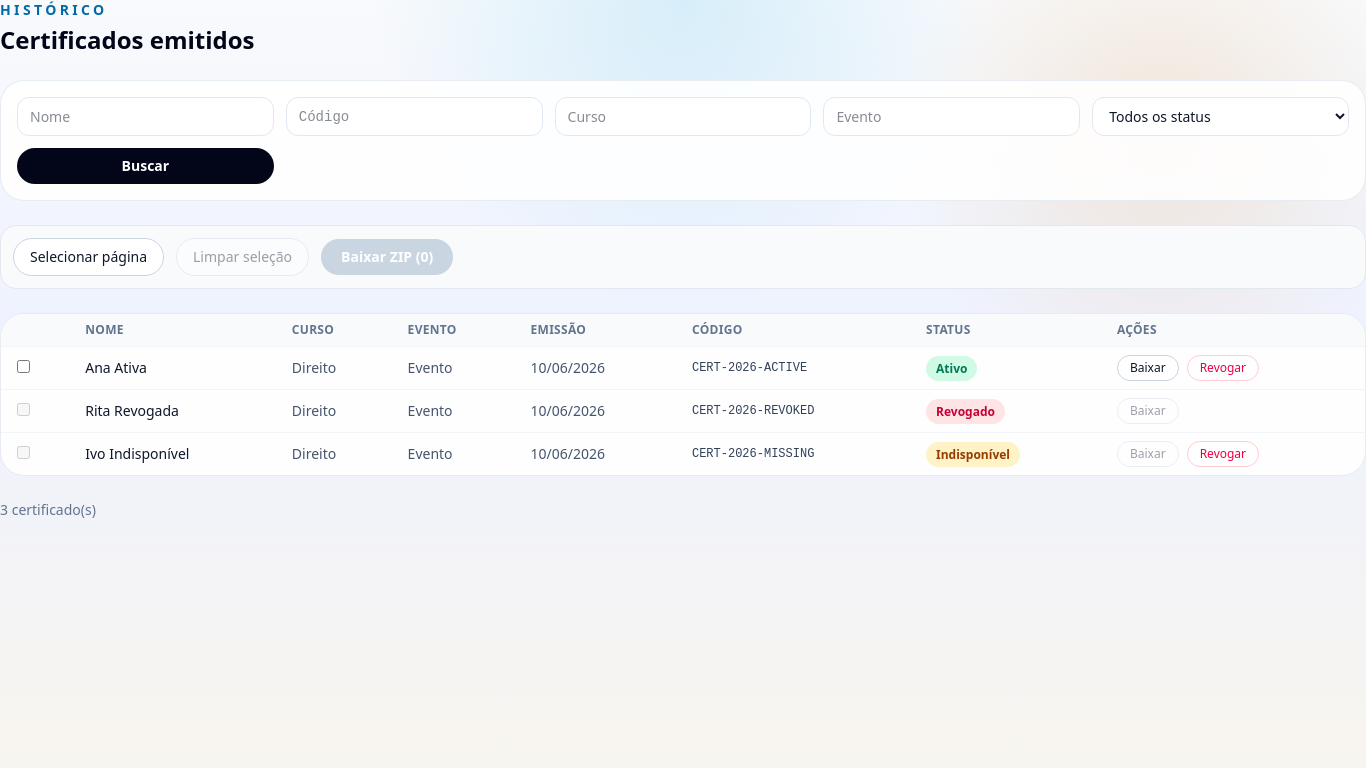
Test: exige motivo e preserva erro específico ao revogar
Expected: the text "Ana Ativa" is shown, [69, 346, 276, 390]
Step 1. Click the button "Revogar" in the row of "Ana Ativa" → click(1223, 368), box [1187, 355, 1259, 381]
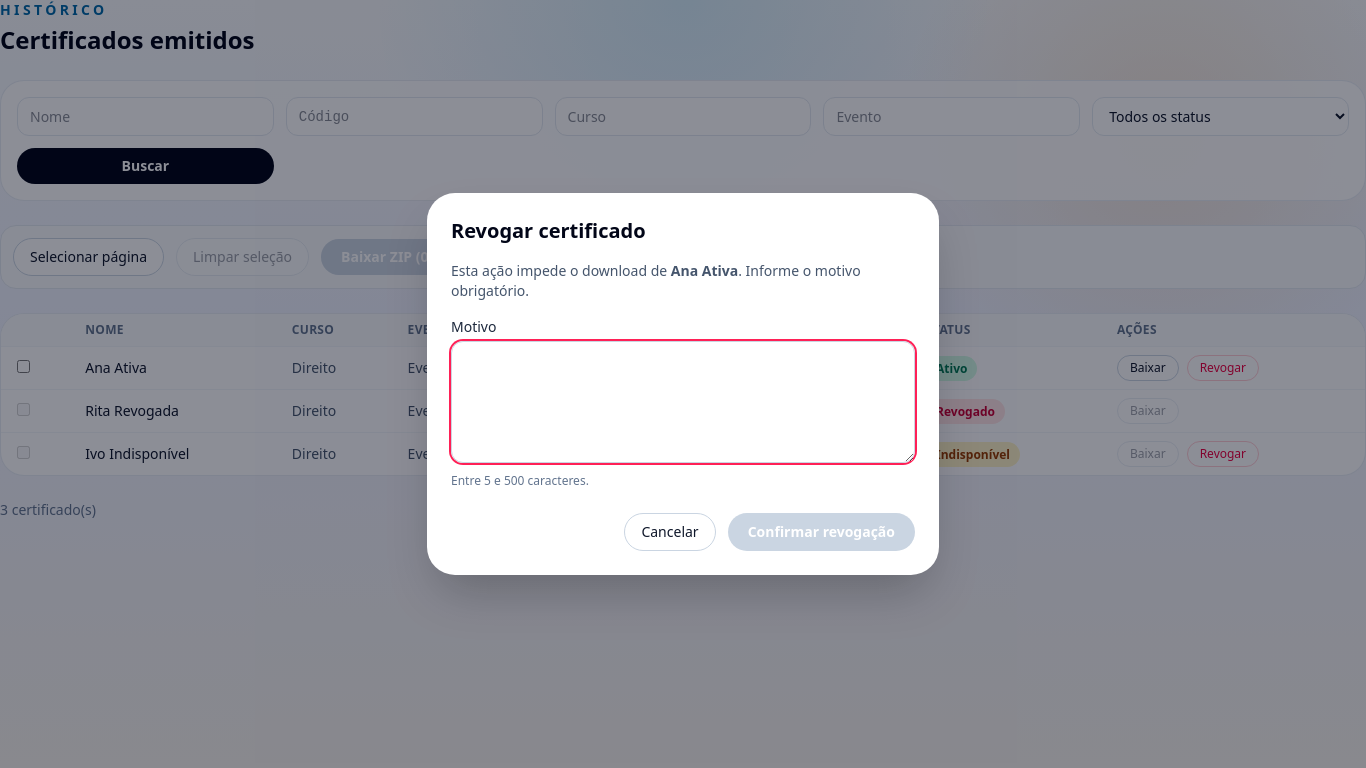
Expected: the button "Confirmar revogação" is disabled, [728, 513, 915, 551]
Step 2. Type "erro de emissão" into the text box labelled "Motivo" → (683, 402), box [451, 341, 915, 463]
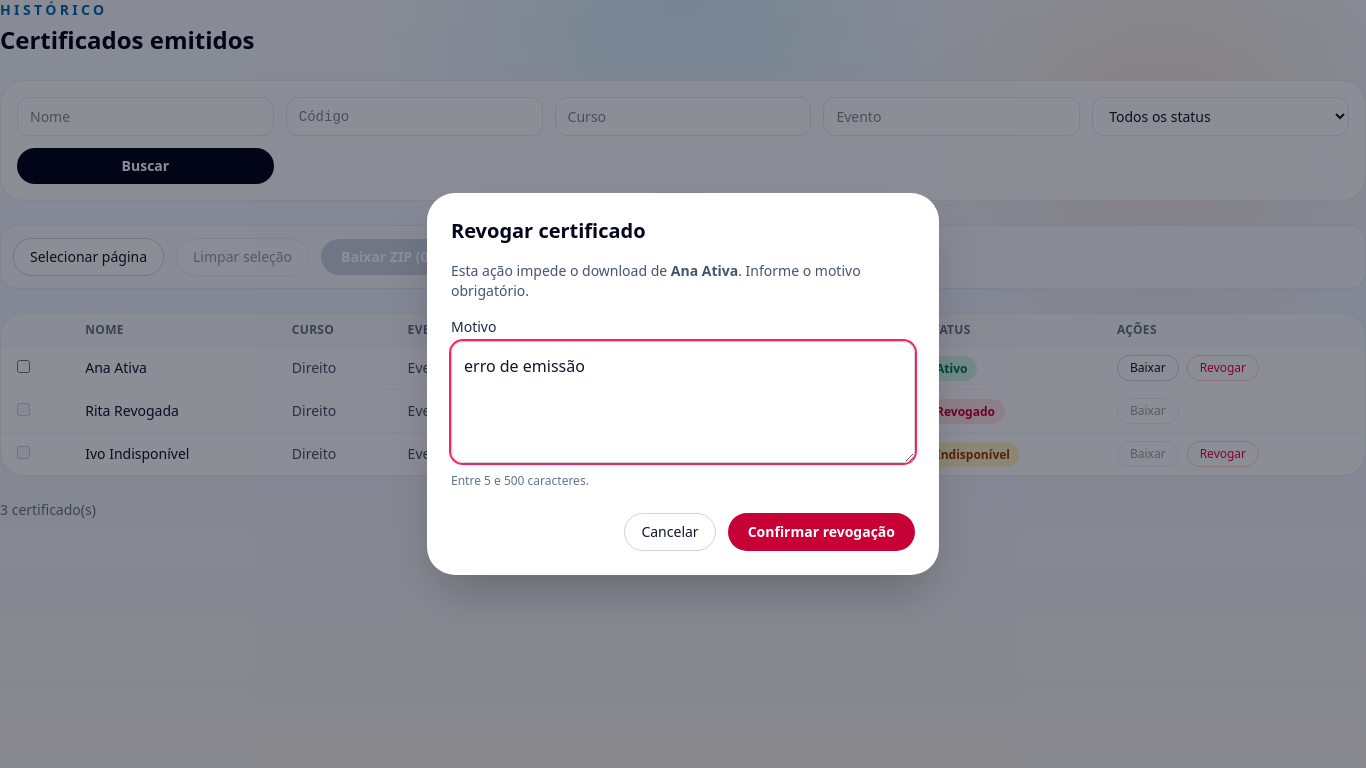
Expected: the button "Confirmar revogação" is enabled
Step 3. Click the button "Confirmar revogação" → click(821, 532), box [728, 513, 915, 551]
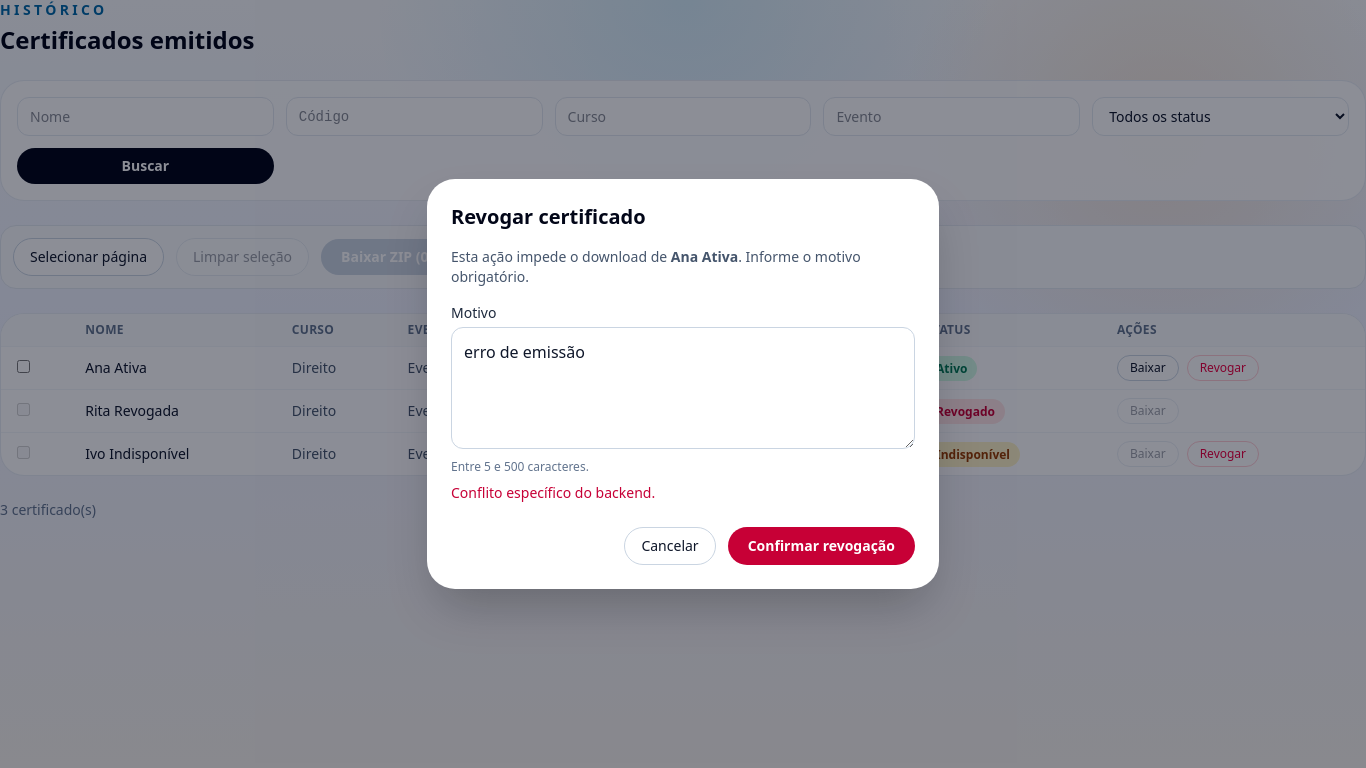
Expected: the text "Conflito específico do backend." is shown, [451, 483, 655, 502]
